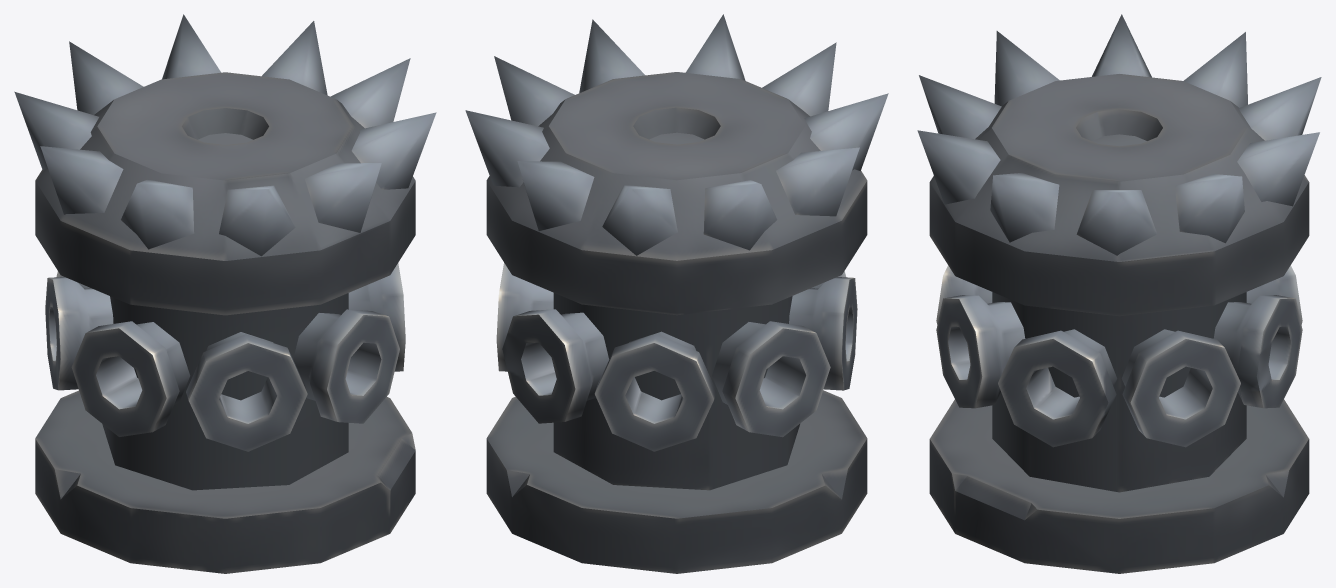
Rendered from aoe.fbx.
The picture shows the model from 3 angles, left to right: view 1: azimuth 30°, elevation 25°; view 2: azimuth 150°, elevation 25°; view 3: azimuth 270°, elevation 25°; orthographic projection.
Parts seen in each view (by area): view 1: Cylinder.020_Baked; view 2: Cylinder.020_Baked; view 3: Cylinder.020_Baked.
Part boxes in pixels (<box>): Cylinder.020_Baked: <box>14,14,436,573</box>; Cylinder.020_Baked: <box>465,14,888,573</box>; Cylinder.020_Baked: <box>917,14,1321,573</box>.
Size of the model in its own units: 112 by 114 by 107.
1 material, 1 textured.
